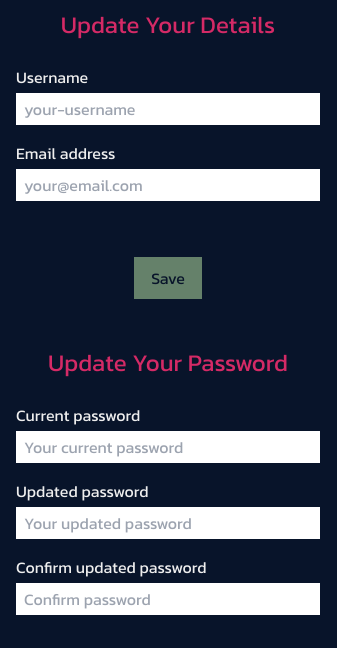
Test: Profile tests: › Update user tests: › It should display errors where the user service rejects
Step 1. Type "new-username" into the field titled "username" → [168, 109], box [16,93,320,125]
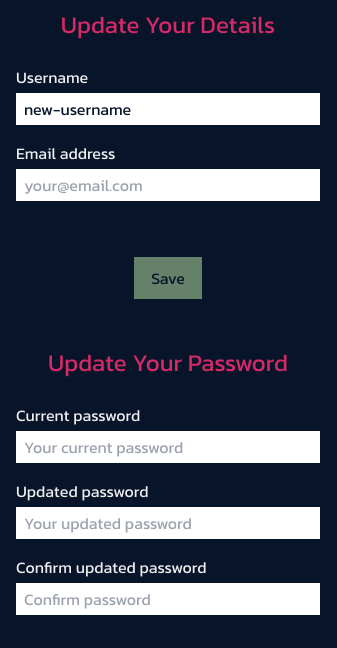
Step 2. Type "new@emailaddress.com" into the field titled "email address" → [168, 185], box [16,169,320,201]
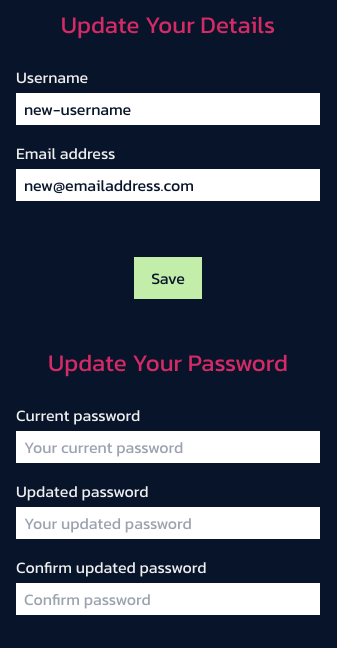
Step 3. Click the button titled "submit" → [168, 278], box [134,257,202,299]
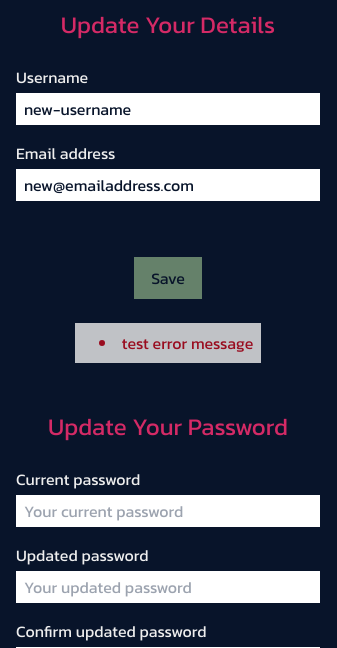
Now the list item "test error message" is shown, box [99,331,253,355]
